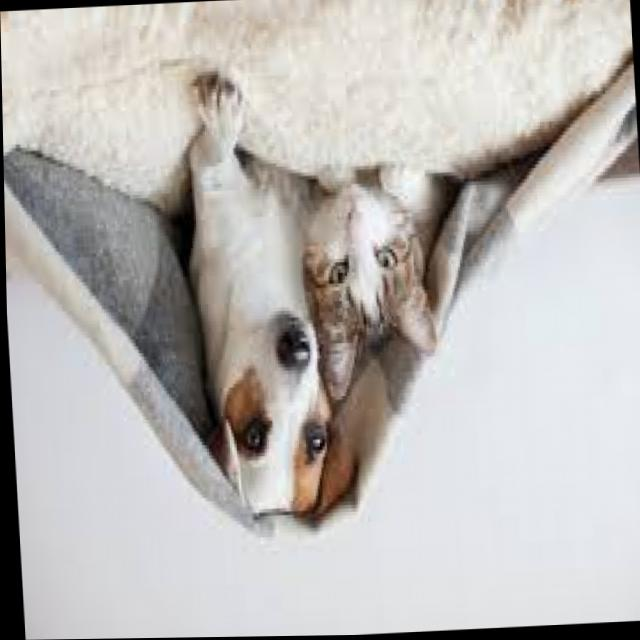Cat: (307, 184, 426, 381)
Dog: (197, 244, 321, 534)
